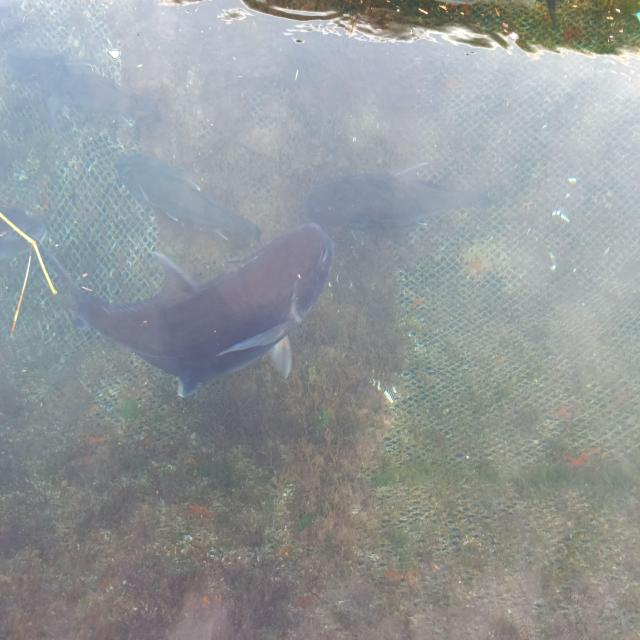ikan: (37, 218, 334, 400)
